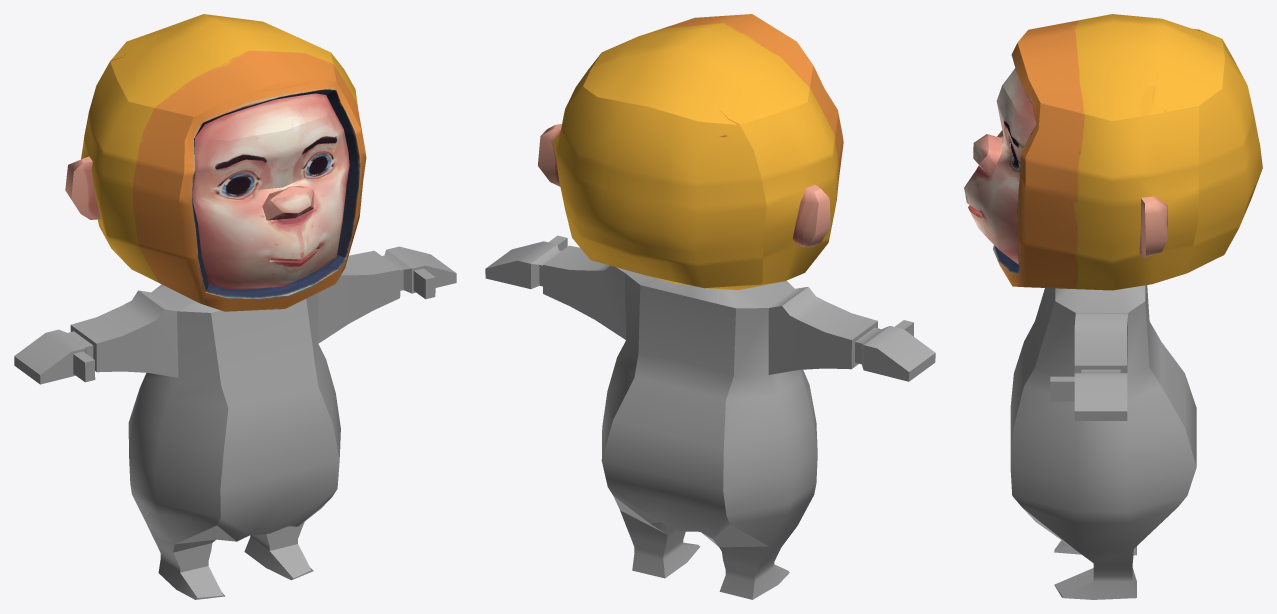
The model's file is Character_Test_Model.fbx.
3 views of the same model, side by side, from view 1: azimuth 30°, elevation 25°; view 2: azimuth 150°, elevation 25°; view 3: azimuth 270°, elevation 25° (orthographic).
Parts seen in each view (by area): view 1: pCube4, pCube1, pCube3; view 2: pCube4, pCube1, pCube3; view 3: pCube4, pCube1, pCube3.
Boxes of the visible parts, x1,y1,x2,y2 form: pCube4: (65,14,366,311); pCube1: (14,246,456,599); pCube3: (14,247,456,597); pCube4: (538,14,843,289); pCube1: (485,235,935,599); pCube3: (486,238,932,597); pCube4: (964,14,1262,290); pCube1: (1010,285,1196,599); pCube3: (1013,309,1196,587).
Bounding box in the file's own units: 5.22 × 6.44 × 3.19.
